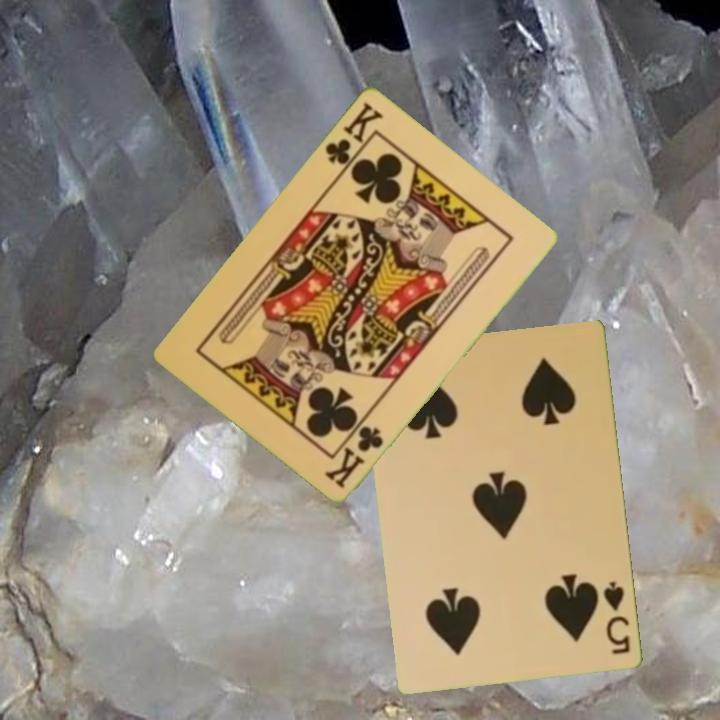5s: (600, 578, 634, 658)
Kc: (321, 97, 386, 177), (322, 421, 387, 491)
